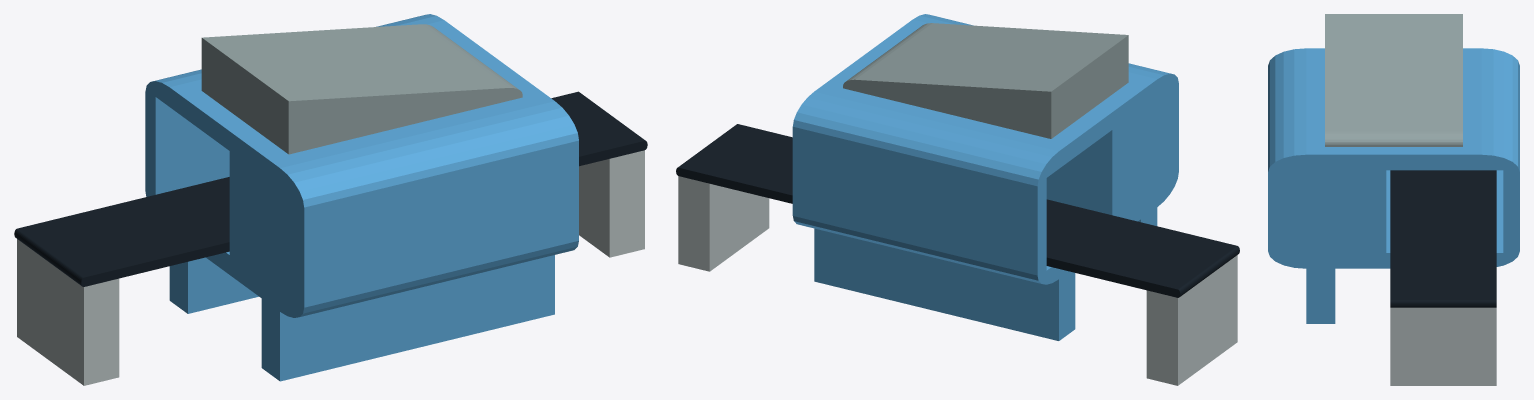
File: Machine.fbx
3 renders of one model, left to right at view 1: azimuth 30°, elevation 25°; view 2: azimuth 150°, elevation 25°; view 3: azimuth 270°, elevation 25°, orthographic. The views are drawn at different scales.
Parts seen in each view (by area): view 1: Cube; view 2: Cube; view 3: Cube.
Boxes of the visible parts, bbox=[...] form: Cube: bbox=[14, 14, 647, 385]; Cube: bbox=[676, 14, 1239, 385]; Cube: bbox=[1268, 14, 1519, 385].
Size of the model in its own units: 412 by 191 by 200.
